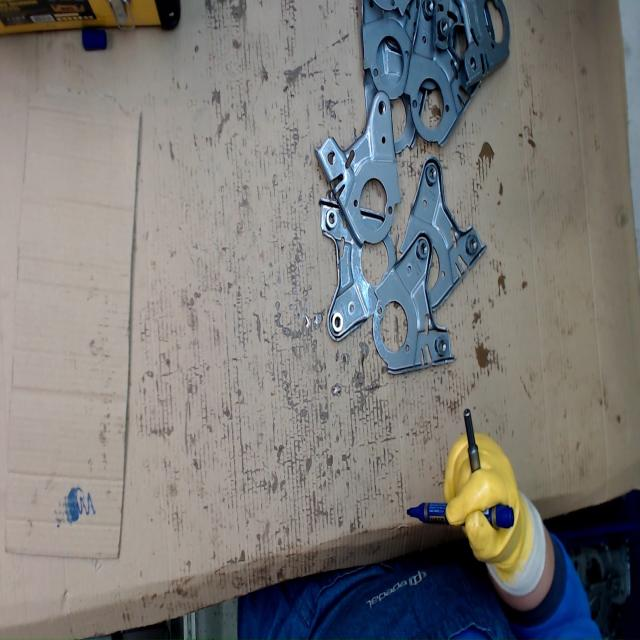hands: (443, 430, 530, 587)
